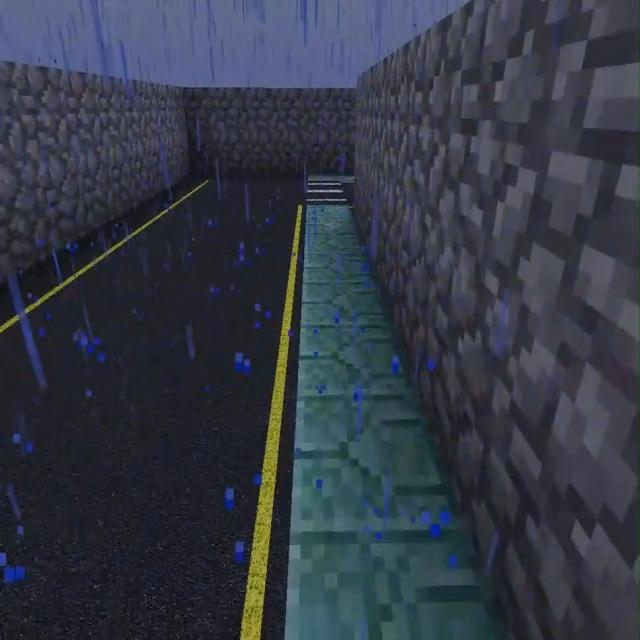8: (306, 180, 352, 203)
crosswalk: (0, 179, 303, 639)
road: (286, 204, 512, 639), (307, 173, 355, 179)
